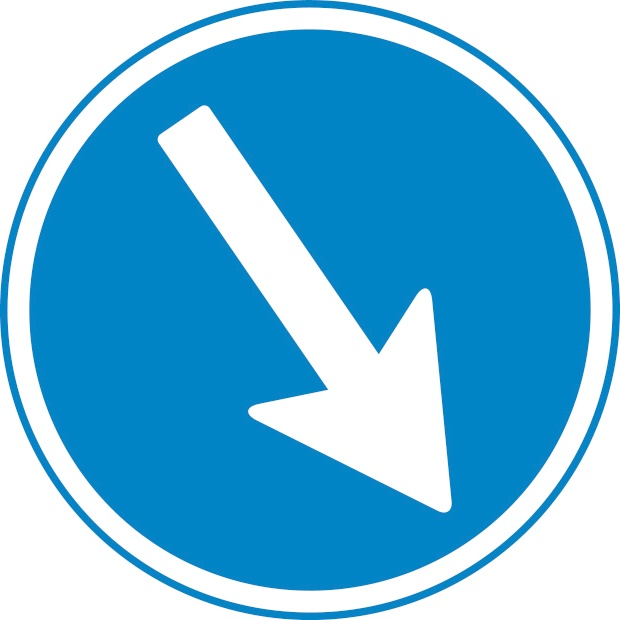Direction_sign: (2, 1, 620, 611)
